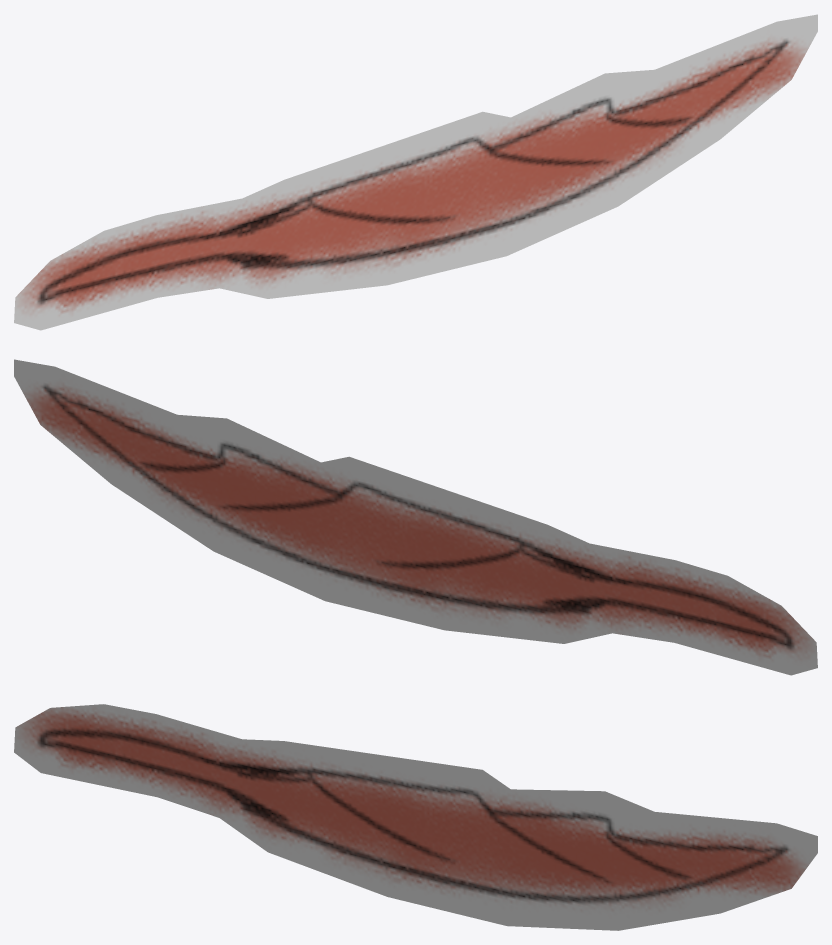
The model's file is Leaf2.fbx.
3 renders of one model, top to bottom at view 1: azimuth 30°, elevation 25°; view 2: azimuth 150°, elevation 25°; view 3: azimuth 330°, elevation 25°, orthographic.
Parts seen in each view (by area): view 1: Leaf2; view 2: Leaf2; view 3: Leaf2.
Boxes of the visible parts, x1=… form: Leaf2: x1=14, y1=14, x2=817, y2=330; Leaf2: x1=14, y1=359, x2=817, y2=675; Leaf2: x1=14, y1=704, x2=817, y2=930.
Bounding box in the file's own units: 35.47 × 7.11 × 1.16e-06.
